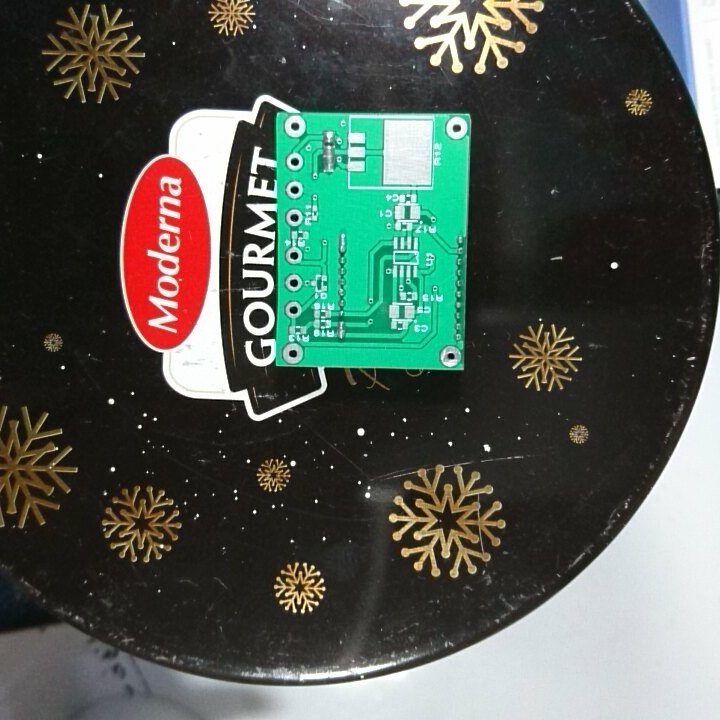F: (282, 113, 308, 140), (437, 343, 462, 369), (444, 115, 469, 140), (281, 341, 305, 366), (284, 151, 306, 174), (284, 178, 305, 201), (284, 206, 304, 229), (284, 244, 304, 266), (283, 299, 303, 320), (284, 271, 303, 292)
P: (321, 142, 337, 175), (336, 229, 349, 255), (335, 318, 346, 340)
